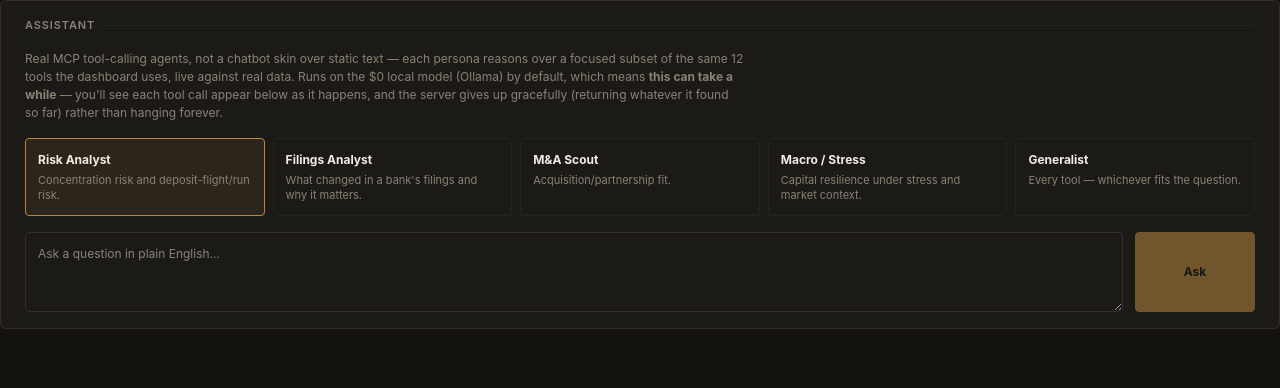
Test: AssistantPage › renders an error banner instead of crashing when the stream errors out
Type "hung question" into the text box with placeholder "Ask a question in plain English…" at x=574, y=272, box [25,232,1123,312]
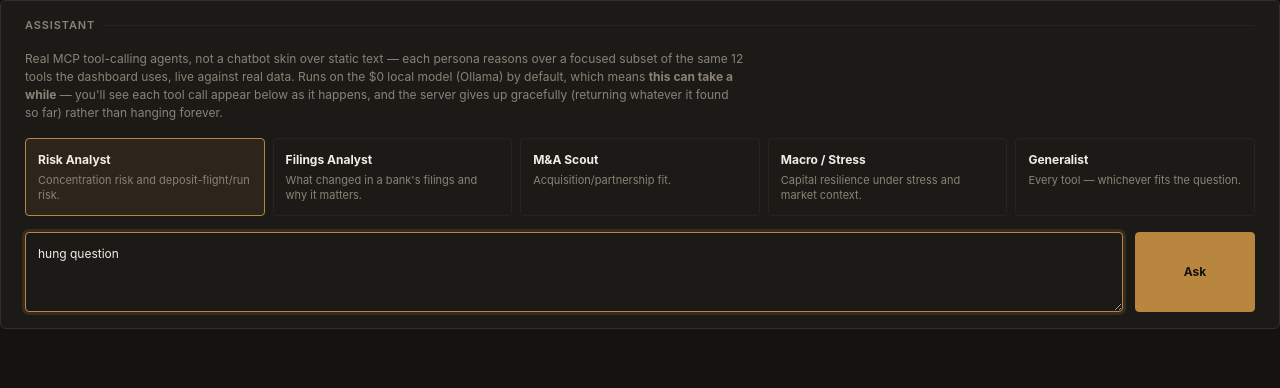
Click the button "Ask" at x=1195, y=272, box [1135,232,1255,312]
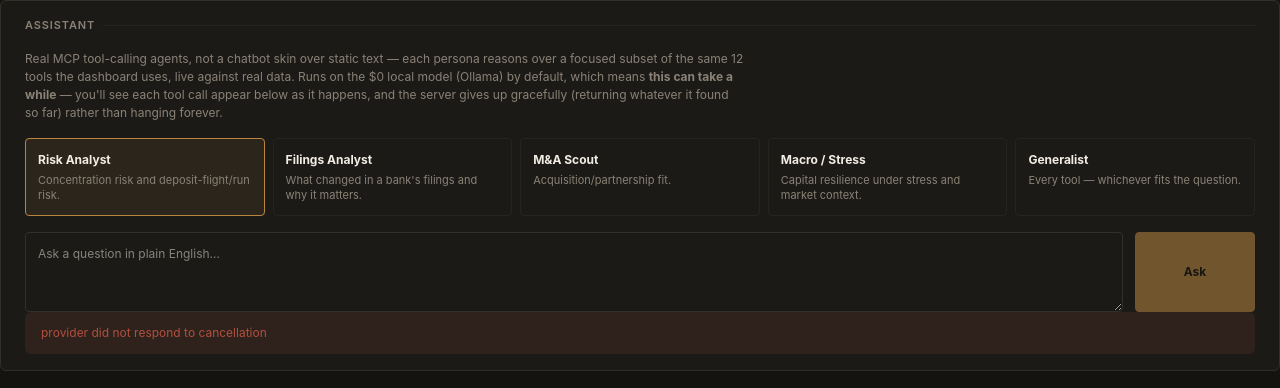
Result: the text "provider did not respond to cancellation" is shown at [25,312,1255,354]
